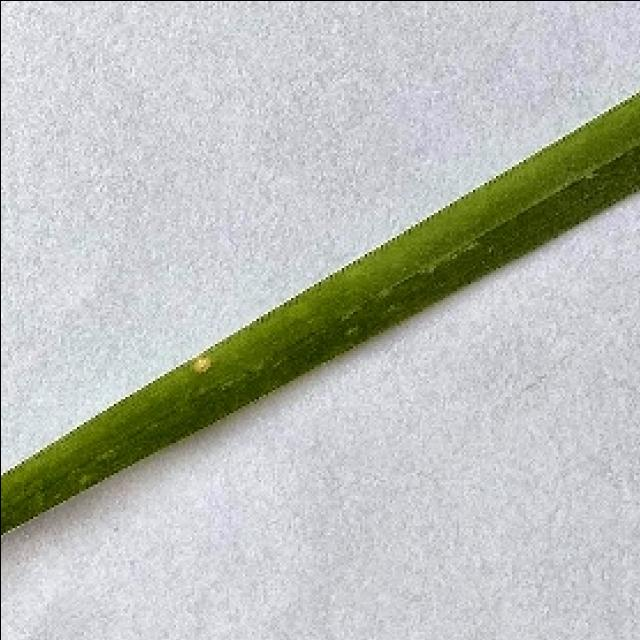Leaf_Blast: (180, 350, 232, 387)
